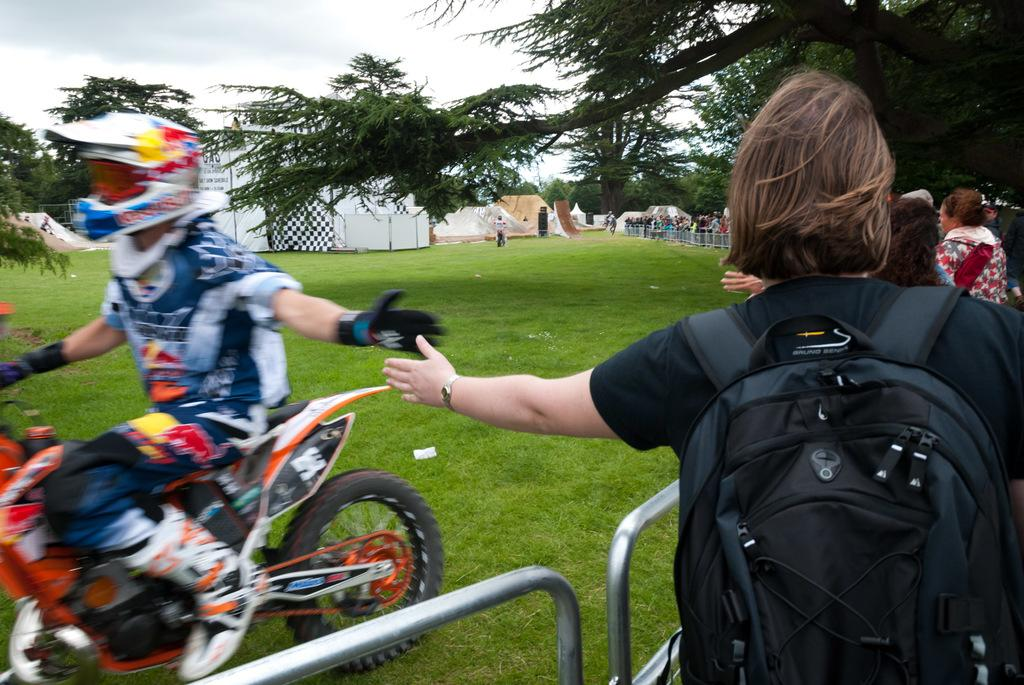helmet: (44, 112, 202, 243)
nohelmet: (730, 69, 893, 275), (937, 189, 983, 237)
